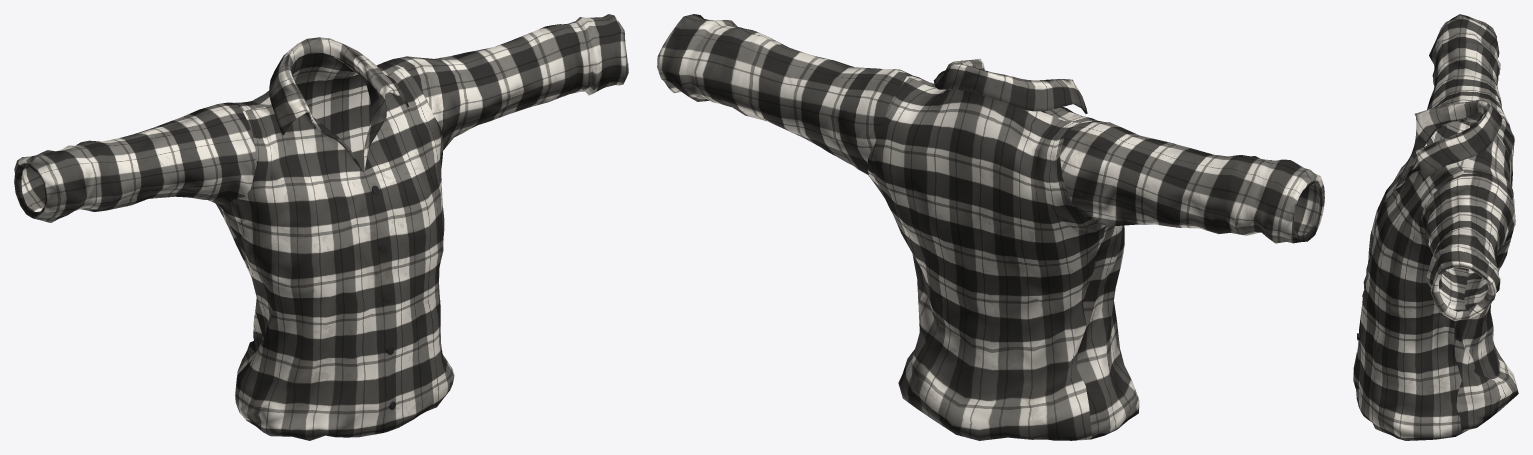
3 renders of one model, left to right at view 1: azimuth 30°, elevation 25°; view 2: azimuth 150°, elevation 25°; view 3: azimuth 270°, elevation 25°, orthographic. The views are drawn at different scales.
Visible parts, largest first — view 1: test; view 2: test; view 3: test.
Boxes of the visible parts, x1,y1,x2,y2 form: test: [14, 14, 628, 440]; test: [657, 14, 1324, 440]; test: [1353, 14, 1518, 440].
Bounding box in the file's own units: 103 × 57.61 × 28.48.
1 material, 1 textured.
